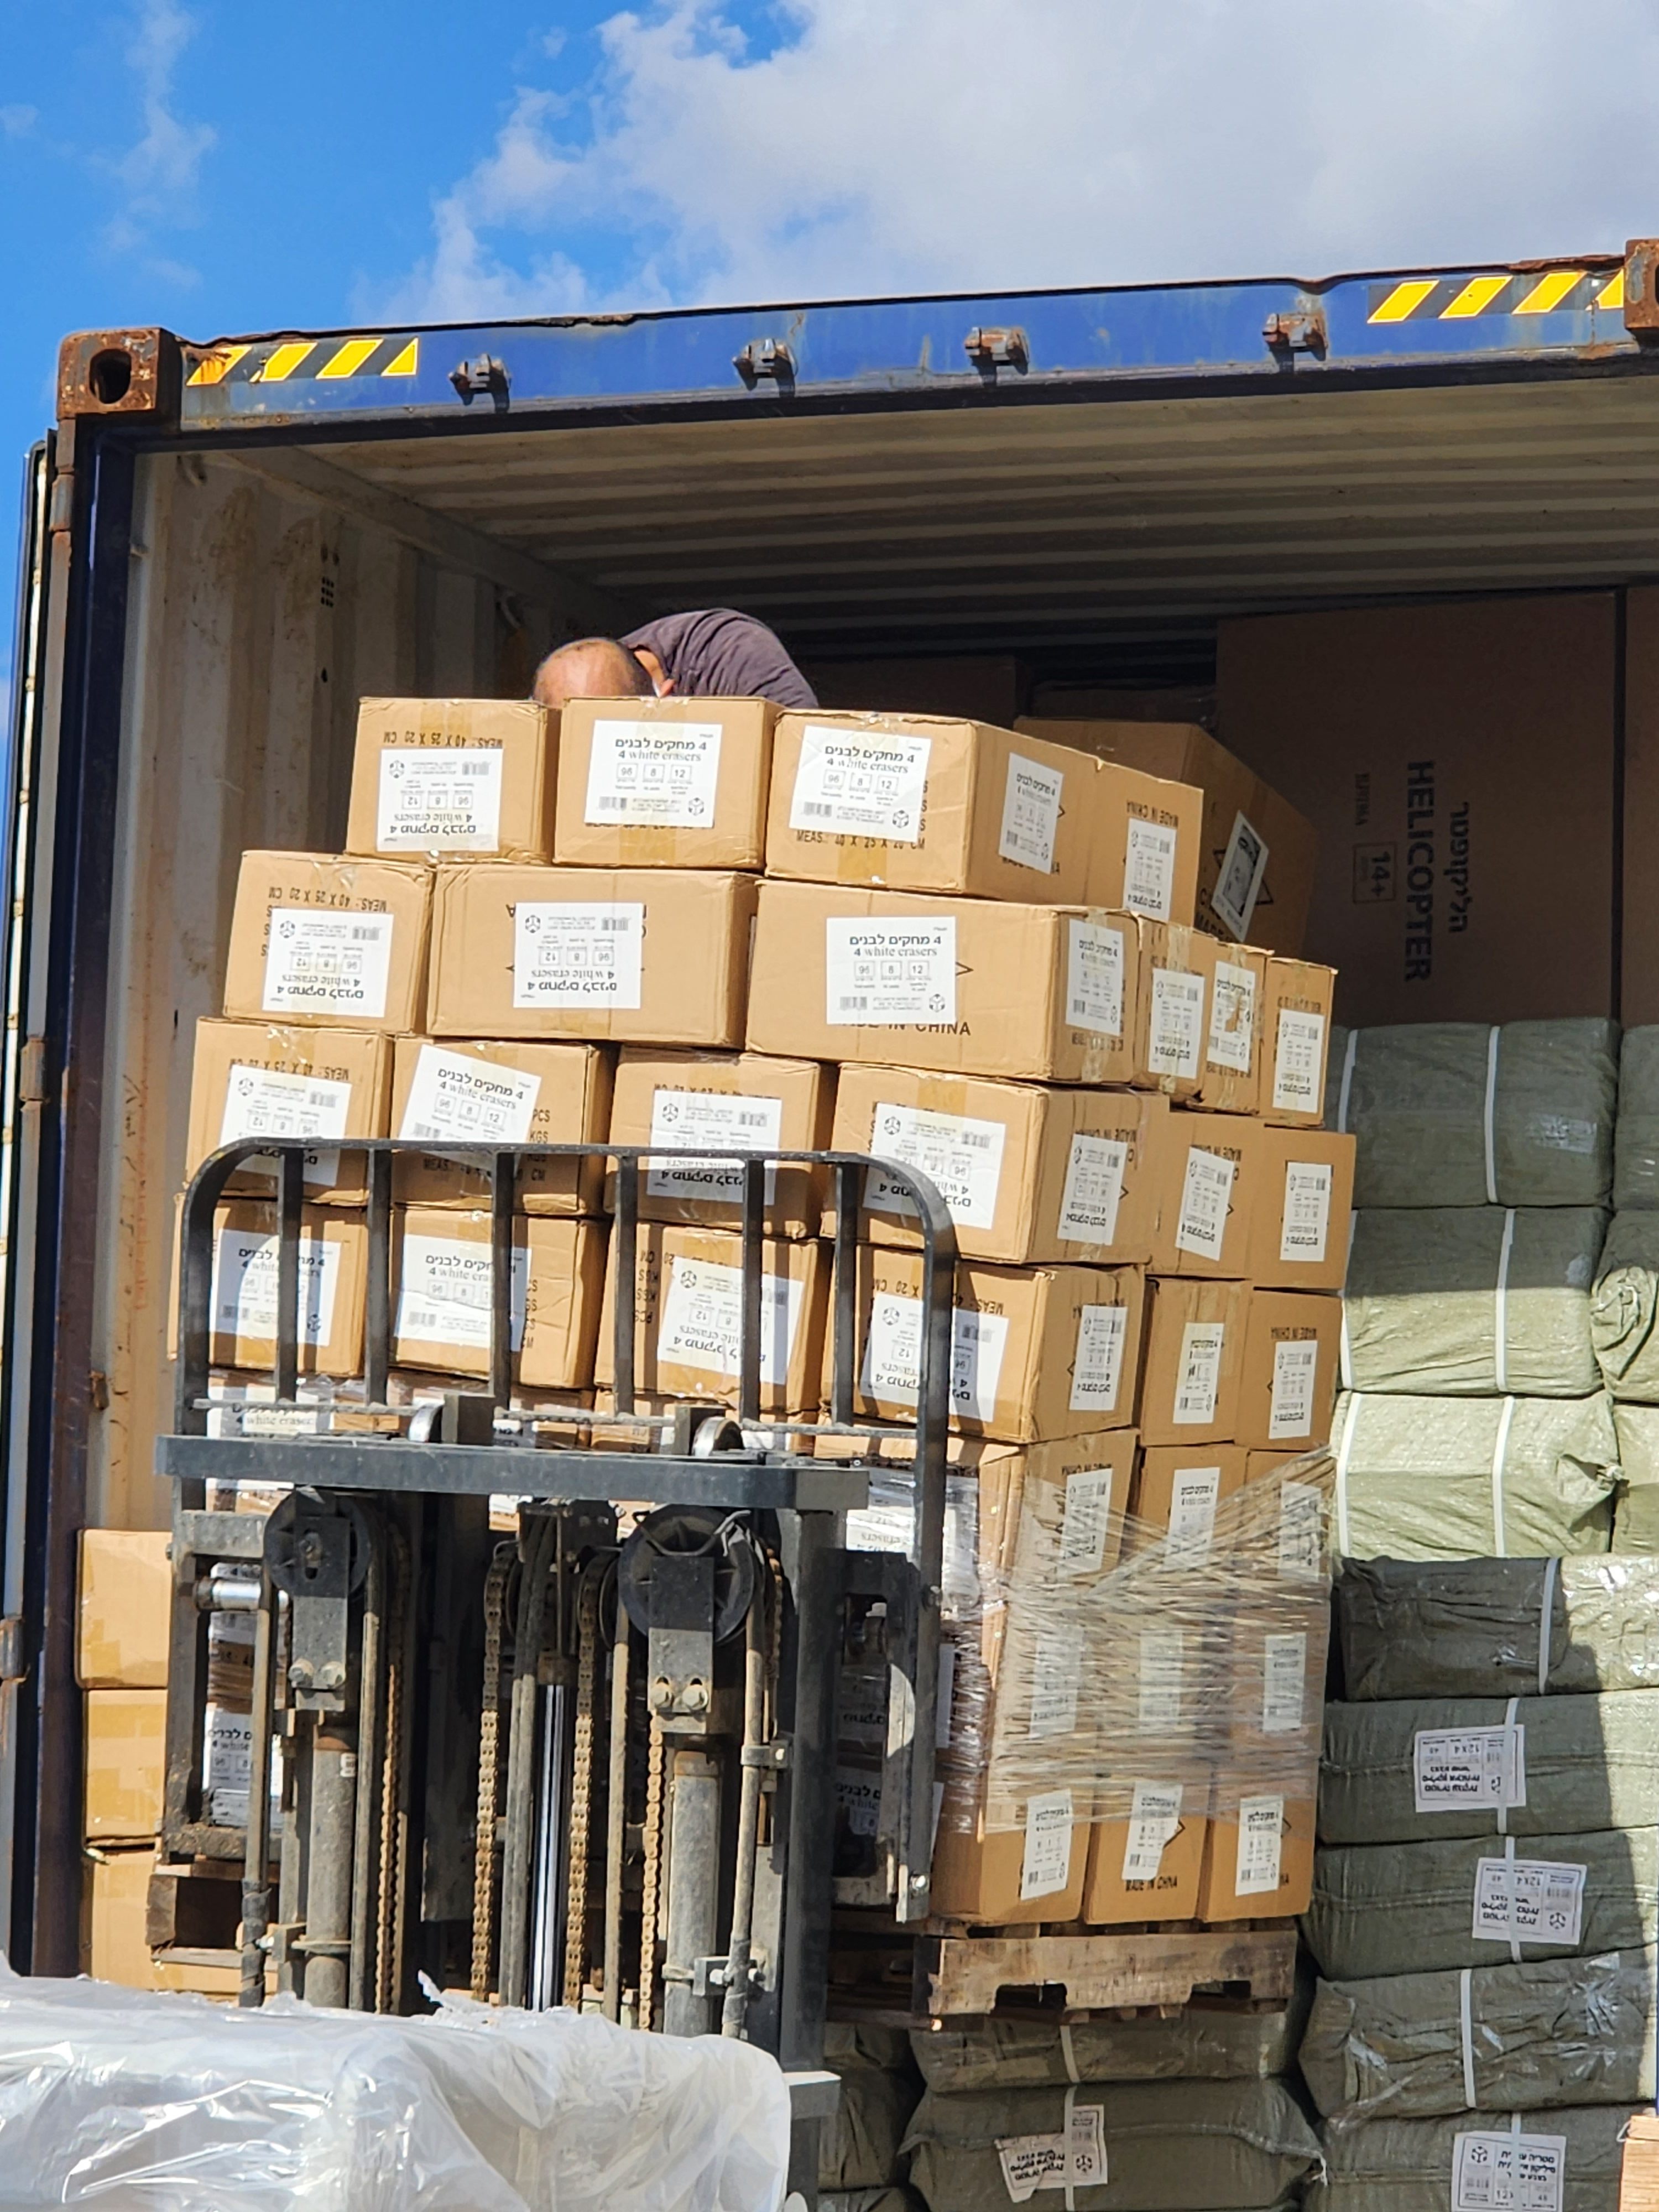box: (697, 866, 1157, 1096), (831, 1035, 1202, 1291), (772, 698, 1230, 904), (378, 817, 749, 1054), (164, 787, 415, 1047), (580, 996, 840, 1233), (321, 657, 565, 885), (551, 676, 805, 894), (917, 1233, 1140, 1467)
